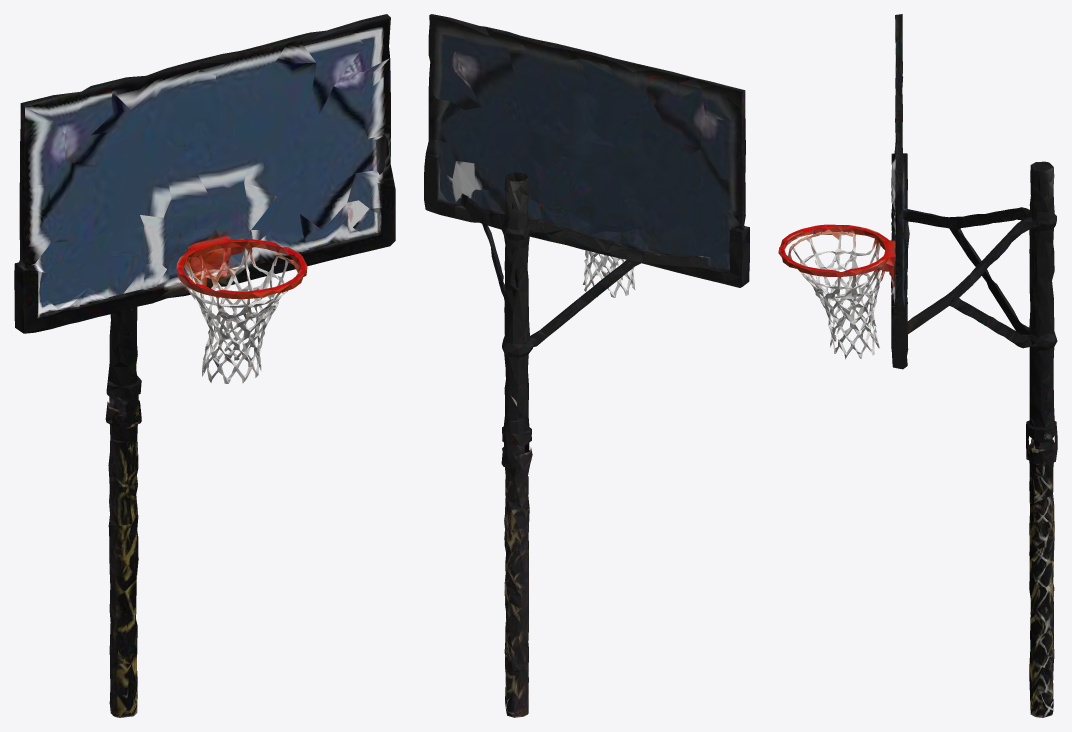
File: basketball_hoop.glb
3 views of the same model, side by side, from view 1: azimuth 30°, elevation 25°; view 2: azimuth 150°, elevation 25°; view 3: azimuth 270°, elevation 25° (orthographic). The views are drawn at different scales.
Visible parts, largest first — view 1: m; view 2: m; view 3: m.
Boxes of the visible parts, box(x1,y1,x2,y2) form: m: box(14, 14, 395, 717); m: box(424, 14, 749, 717); m: box(778, 14, 1057, 717).
Size of the model in its own units: 2.17 by 3.95 by 1.61.
Materials: 1 (1 with a texture image).
